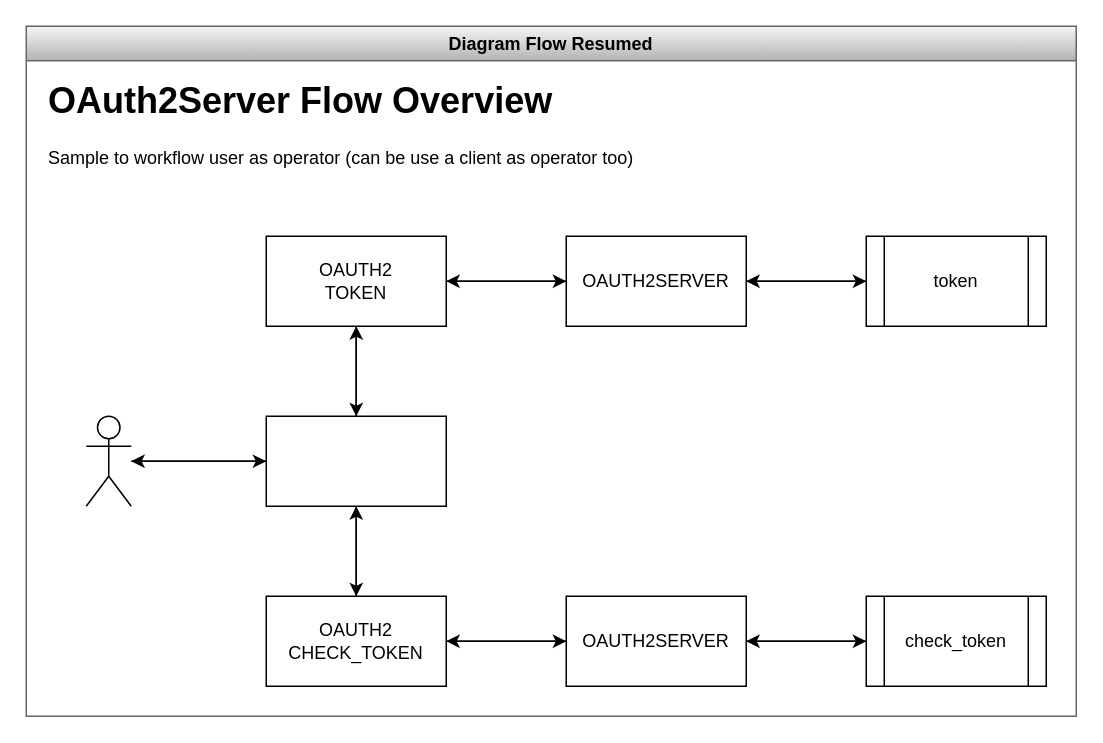
The diagram is 1103 pixels wide and 743 high, and some of its shapes have lost their labels. The centre of each missing label's shape, as x and y in pixels:
CLIENT APPLICATION: [355,460]
OPERATOR: [108,460]
